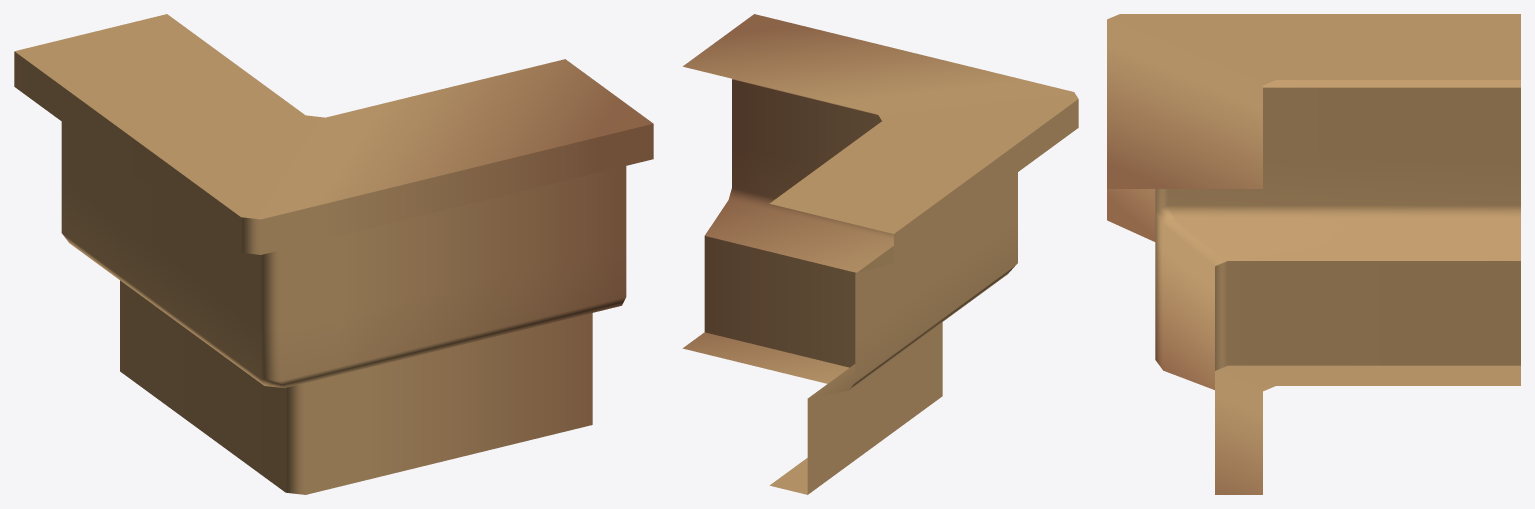
File: DBK_Trim_B_Corner.fbx
3 renders of one model, left to right at view 1: azimuth 30°, elevation 25°; view 2: azimuth 150°, elevation 25°; view 3: azimuth 270°, elevation 25°, orthographic. The views are drawn at different scales.
Parts seen in each view (by area): view 1: DBK_Trim_B_Corner; view 2: DBK_Trim_B_Corner; view 3: DBK_Trim_B_Corner.
Part boxes in pixels (left/top/right/bottom): DBK_Trim_B_Corner: left=14, top=14, right=653, bottom=494; DBK_Trim_B_Corner: left=682, top=14, right=1078, bottom=494; DBK_Trim_B_Corner: left=1107, top=14, right=1520, bottom=494.
Bounding box in the file's own units: 32.11 × 26.19 × 32.11.
